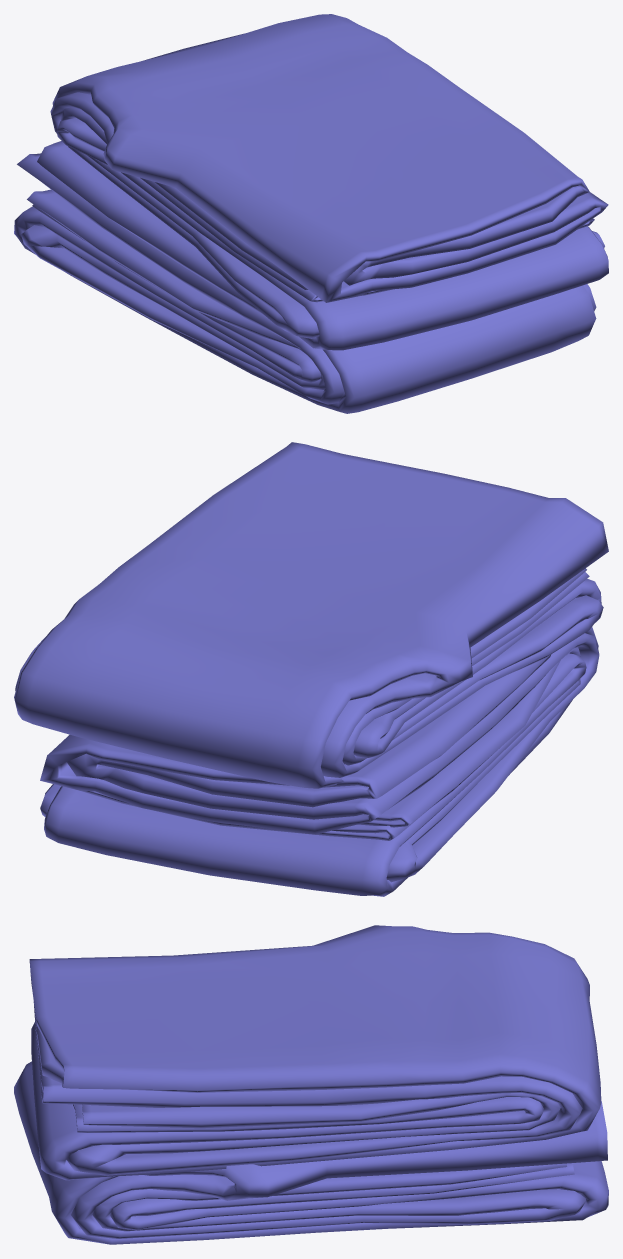
The model's file is Folded_Pant06.fbx.
3 renders of one model, top to bottom at view 1: azimuth 30°, elevation 25°; view 2: azimuth 150°, elevation 25°; view 3: azimuth 270°, elevation 25°, orthographic. The views are drawn at different scales.
Visible parts, largest first — view 1: Folded_Pant06; view 2: Folded_Pant06; view 3: Folded_Pant06.
Part boxes in pixels (box(x1,y1,x2,y2)): Folded_Pant06: box(14, 14, 608, 413); Folded_Pant06: box(14, 442, 608, 896); Folded_Pant06: box(14, 925, 608, 1244).
Bounding box in the file's own units: 25.78 × 11.41 × 35.19.
